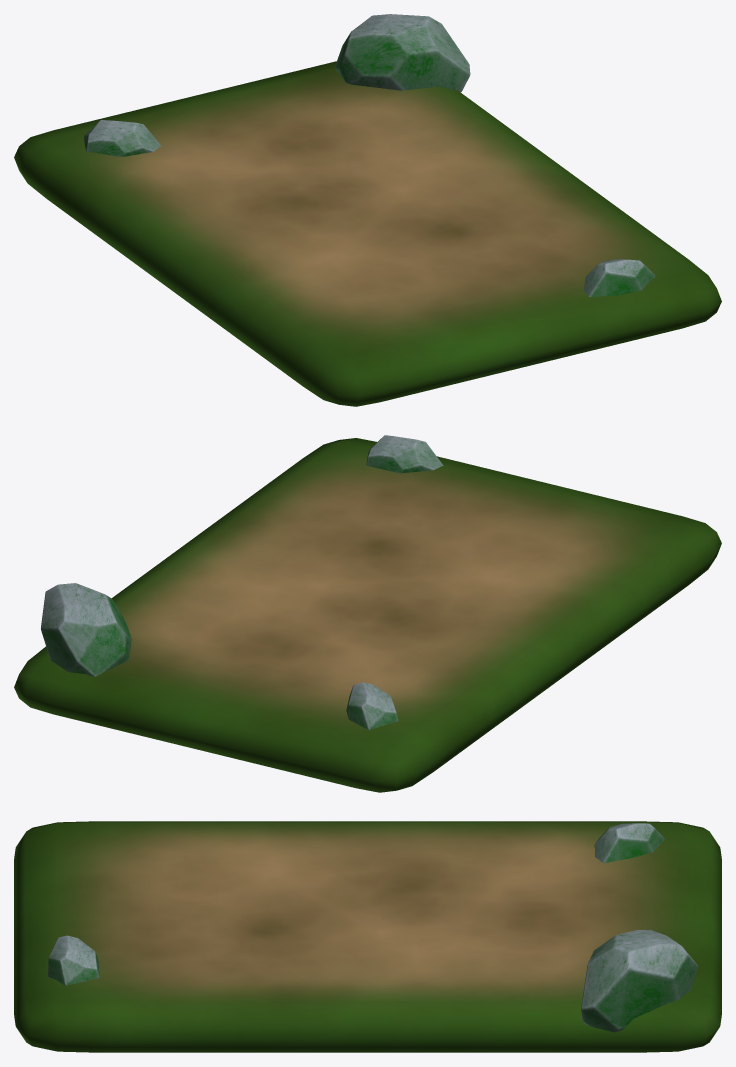
File: gardenPlot2.glb
The picture shows the model from 3 angles, top to bottom: view 1: azimuth 30°, elevation 25°; view 2: azimuth 150°, elevation 25°; view 3: azimuth 270°, elevation 25°; orthographic projection. The views are drawn at different scales.
Parts seen in each view (by area): view 1: Plane.033, Sphere.053, Sphere.054, Sphere.055; view 2: Plane.033, Sphere.053, Sphere.055, Sphere.054; view 3: Plane.033, Sphere.053, Sphere.054, Sphere.055.
Boxes of the visible parts, x1,y1,x2,y2 form: Plane.033: (14,61,721,406); Sphere.053: (334,14,470,92); Sphere.054: (84,120,161,156); Sphere.055: (584,259,655,296); Plane.033: (14,438,721,792); Sphere.053: (41,583,131,676); Sphere.055: (366,435,443,473); Sphere.054: (346,682,398,729); Plane.033: (14,821,721,1052); Sphere.053: (581,930,698,1032); Sphere.054: (594,823,664,863); Sphere.055: (48,935,99,985).
Bounding box in the file's own units: 7.63 × 1.8 × 10.92.
Materials: 1 (1 with a texture image).
